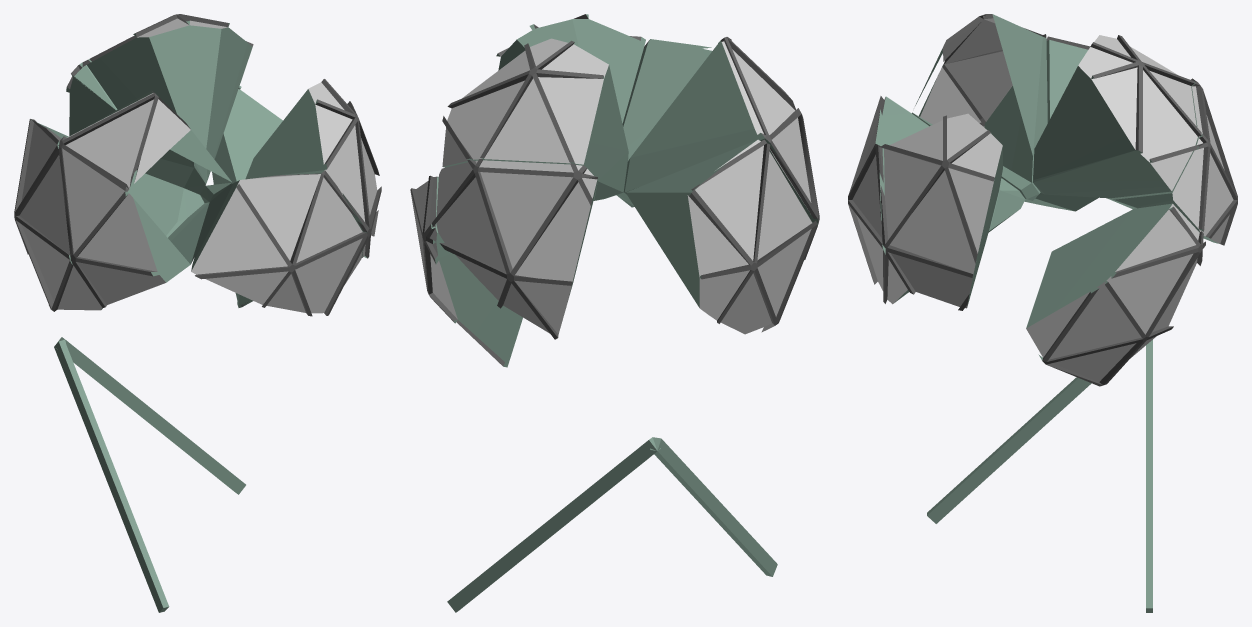
3 renders of one model, left to right at view 1: azimuth 30°, elevation 25°; view 2: azimuth 150°, elevation 25°; view 3: azimuth 270°, elevation 25°, orthographic. The views are drawn at different scales.
Parts seen in each view (by area): view 1: Sphere_cell.016, Sphere_cell.015, Sphere_cell.004, Sphere_cell.003, Sphere_cell.012, Sphere_cell.031, Sphere_cell.007, Sphere_cell.017; view 2: Sphere_cell.012, Sphere_cell.017, Sphere_cell.004, Sphere_cell.016, Sphere_cell.007, Sphere_cell.031, Sphere_cell.015, Sphere_cell.003; view 3: Sphere_cell.007, Sphere_cell.004, Sphere_cell.003, Sphere_cell.016, Sphere_cell.015, Sphere_cell.017, Sphere_cell.031, Sphere_cell.012.
Boxes of the visible parts, left/top/right/bottom form: Sphere_cell.016: left=58, top=90, right=231, bottom=307; Sphere_cell.015: left=191, top=170, right=367, bottom=316; Sphere_cell.004: left=87, top=14, right=253, bottom=184; Sphere_cell.003: left=245, top=79, right=381, bottom=258; Sphere_cell.012: left=14, top=119, right=102, bottom=311; Sphere_cell.031: left=54, top=337, right=245, bottom=612; Sphere_cell.007: left=212, top=86, right=282, bottom=307; Sphere_cell.017: left=66, top=59, right=117, bottom=136; Sphere_cell.012: left=625, top=139, right=817, bottom=334; Sphere_cell.017: left=432, top=159, right=597, bottom=339; Sphere_cell.004: left=442, top=38, right=628, bottom=200; Sphere_cell.016: left=617, top=37, right=819, bottom=259; Sphere_cell.007: left=410, top=175, right=522, bottom=367; Sphere_cell.031: left=447, top=437, right=777, bottom=612; Sphere_cell.015: left=616, top=39, right=711, bottom=207; Sphere_cell.003: left=496, top=14, right=645, bottom=123; Sphere_cell.007: left=1026, top=203, right=1205, bottom=386; Sphere_cell.004: left=1032, top=35, right=1201, bottom=198; Sphere_cell.003: left=880, top=113, right=1002, bottom=310; Sphere_cell.016: left=912, top=14, right=1047, bottom=200; Sphere_cell.015: left=848, top=96, right=1025, bottom=304; Sphere_cell.017: left=1107, top=78, right=1237, bottom=245; Sphere_cell.031: left=927, top=340, right=1152, bottom=612; Sphere_cell.012: left=1024, top=36, right=1098, bottom=211.
Bounding box in the file's own units: 50.93 × 80.58 × 53.57.
